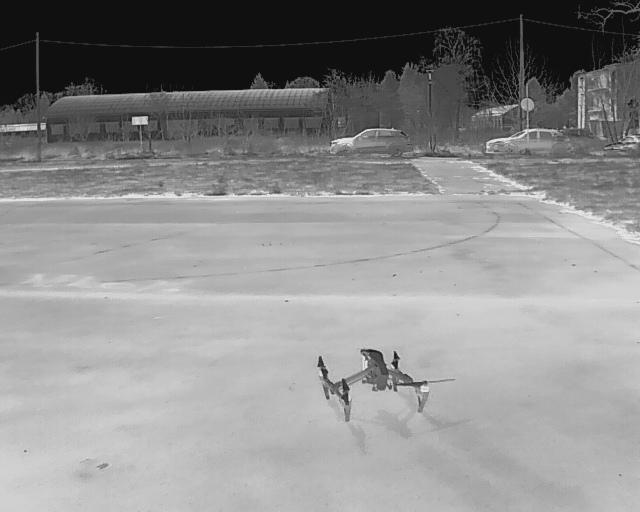drone: (302, 334, 462, 456)
